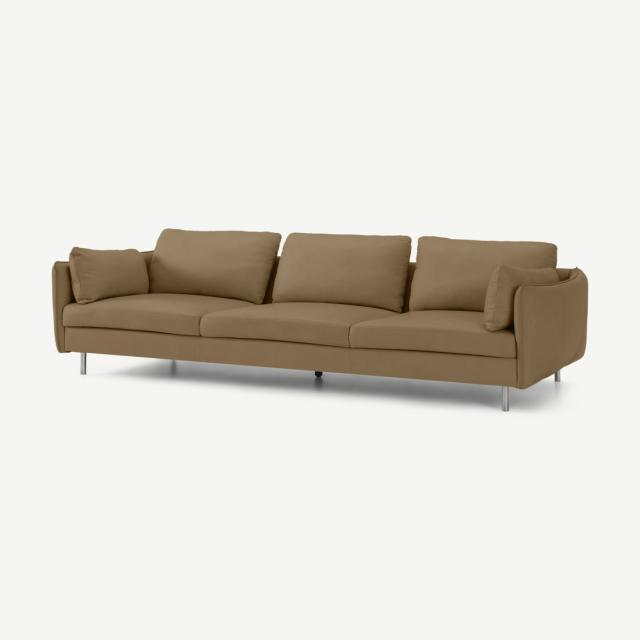back_cushion: (69, 229, 410, 312), (410, 237, 557, 330)
left_arm: (514, 269, 587, 388)
legs: (501, 386, 509, 411), (80, 353, 86, 374), (170, 360, 176, 374), (555, 371, 560, 382), (316, 371, 322, 378)
right_arm: (52, 261, 74, 352)
seat_cushion: (62, 294, 515, 386)
stallion-sofa: (0, 0, 639, 639)
